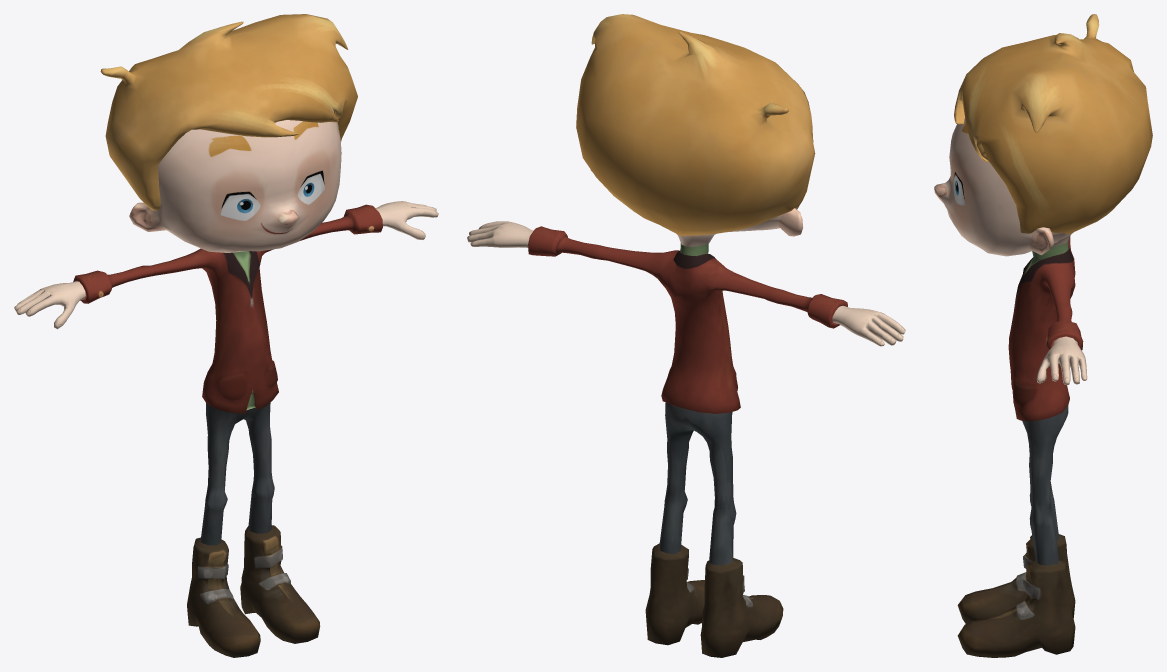
File: CAT_Start.FBX
The picture shows the model from 3 angles, left to right: view 1: azimuth 30°, elevation 25°; view 2: azimuth 150°, elevation 25°; view 3: azimuth 270°, elevation 25°; orthographic projection. The views are drawn at different scales.
Parts seen in each view (by area): view 1: Boy01_Hair_Geo, Boy01_Head_Geo, Boy01_UpperBody_Geo, Boy01_Shoes_Geo, Boy01_LowerBody_Geo, Boy01_Hands_Geo; view 2: Boy01_Hair_Geo, Boy01_UpperBody_Geo, Boy01_Shoes_Geo, Boy01_LowerBody_Geo, Boy01_Hands_Geo, Boy01_Head_Geo; view 3: Boy01_Hair_Geo, Boy01_Shoes_Geo, Boy01_UpperBody_Geo, Boy01_Head_Geo, Boy01_LowerBody_Geo, Boy01_Hands_Geo.
Boxes of the visible parts, left/top/right/bottom form: Boy01_Hair_Geo: left=100, top=14, right=357, bottom=210; Boy01_Head_Geo: left=129, top=107, right=341, bottom=252; Boy01_UpperBody_Geo: left=73, top=204, right=382, bottom=413; Boy01_Shoes_Geo: left=187, top=525, right=320, bottom=657; Boy01_LowerBody_Geo: left=200, top=402, right=274, bottom=545; Boy01_Hands_Geo: left=14, top=201, right=438, bottom=329; Boy01_Hair_Geo: left=576, top=14, right=815, bottom=235; Boy01_UpperBody_Geo: left=528, top=226, right=847, bottom=413; Boy01_Shoes_Geo: left=645, top=543, right=783, bottom=657; Boy01_LowerBody_Geo: left=659, top=402, right=736, bottom=565; Boy01_Hands_Geo: left=467, top=221, right=905, bottom=346; Boy01_Head_Geo: left=590, top=169, right=803, bottom=246; Boy01_Hair_Geo: left=954, top=14, right=1152, bottom=234; Boy01_Shoes_Geo: left=957, top=534, right=1075, bottom=657; Boy01_UpperBody_Geo: left=1008, top=235, right=1083, bottom=421; Boy01_Head_Geo: left=934, top=118, right=1073, bottom=256; Boy01_LowerBody_Geo: left=1022, top=405, right=1068, bottom=565; Boy01_Hands_Geo: left=1036, top=336, right=1087, bottom=385.
Bounding box in the file's own units: 157 × 212 × 70.08.
6 materials, 6 textured.
